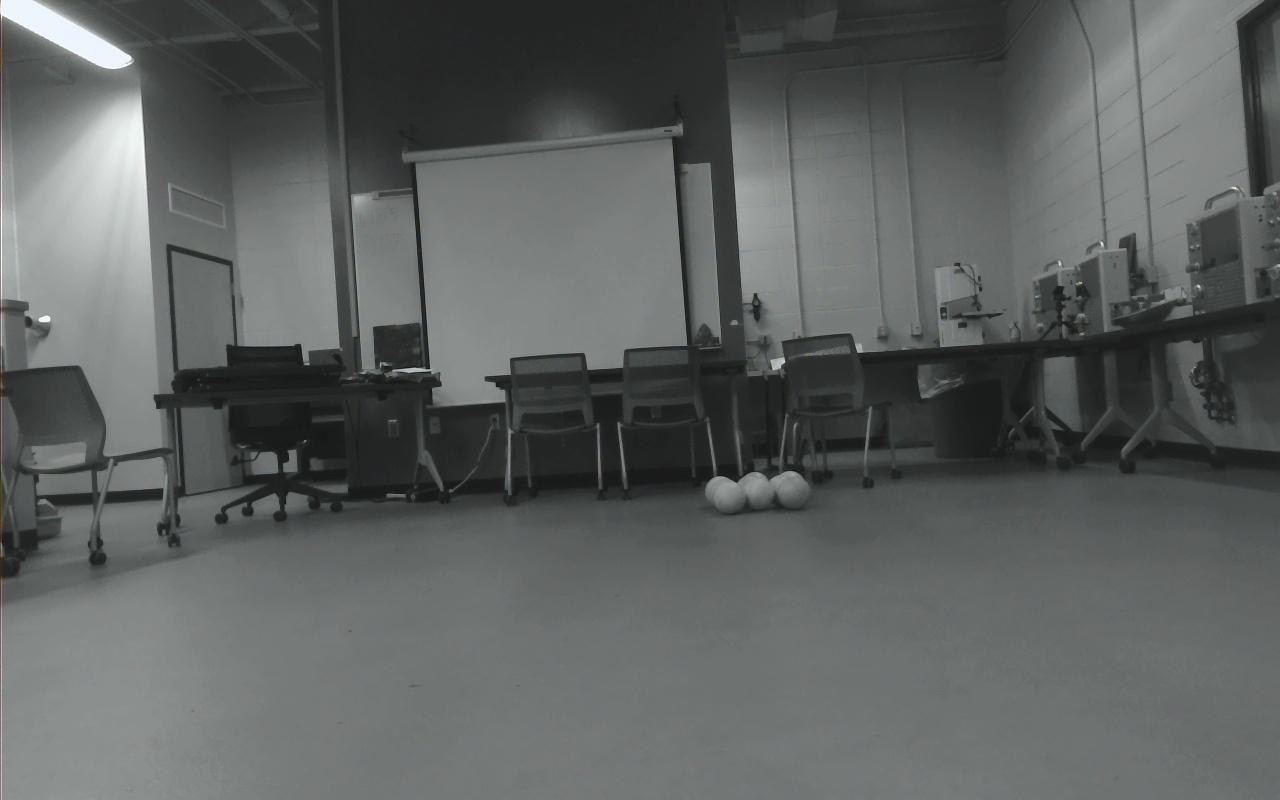Fuel: (776, 476, 812, 511), (713, 482, 746, 516), (707, 479, 739, 510), (736, 476, 768, 507), (744, 479, 774, 512), (705, 476, 736, 507), (766, 475, 796, 507), (776, 470, 806, 502), (739, 472, 769, 498)
